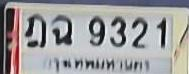1: (156, 17, 165, 48)
2: (131, 15, 147, 48)
3: (109, 14, 125, 46)
9: (88, 15, 104, 45)
A09: (50, 14, 71, 44)
A14: (24, 13, 45, 47)
BKK: (44, 54, 151, 73)
